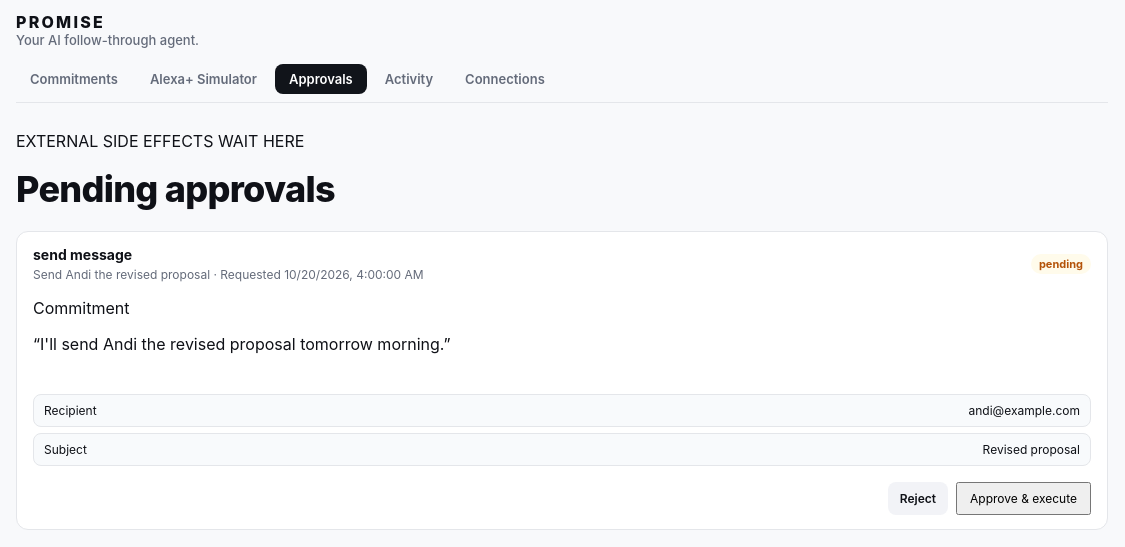
Test: ApprovalsPage – approve flow › shows persistent page notice after approve+execute when action status is 'executed' and card disappears
Expected: the element with test id "approval-card" is shown, left=16, top=231, right=1108, bottom=530
Click the button with test id "btn-approve" at (1024, 498), box left=956, top=482, right=1091, bottom=515
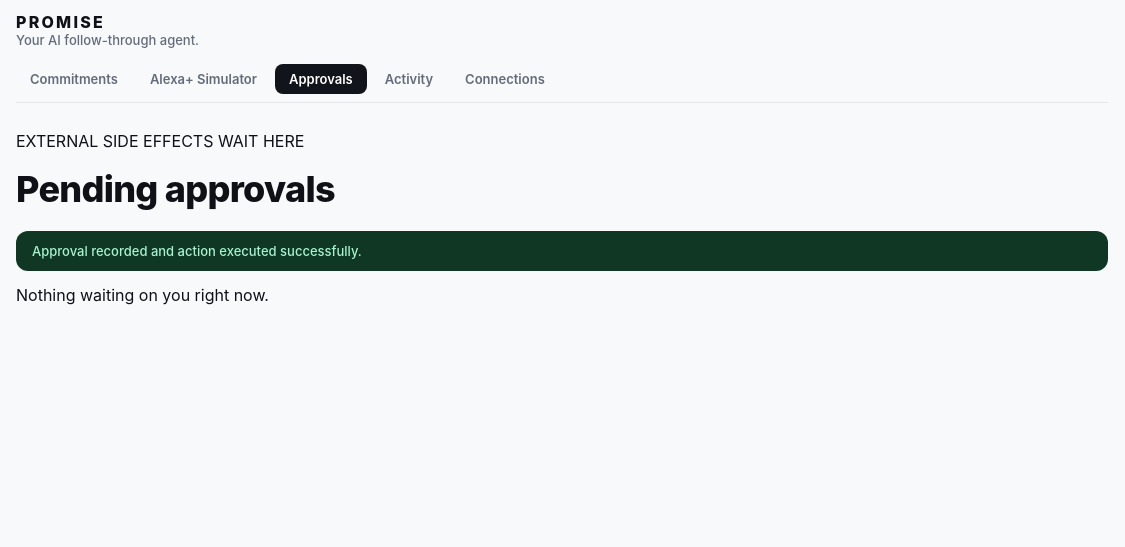
Expected: the element with test id "approval-card" is gone
Expected: the text "Nothing waiting on you right now." is shown, left=16, top=285, right=269, bottom=305
Expected: the message with test id "page-notice" reads "Approval recorded and action executed successfully.", left=32, top=243, right=362, bottom=259
